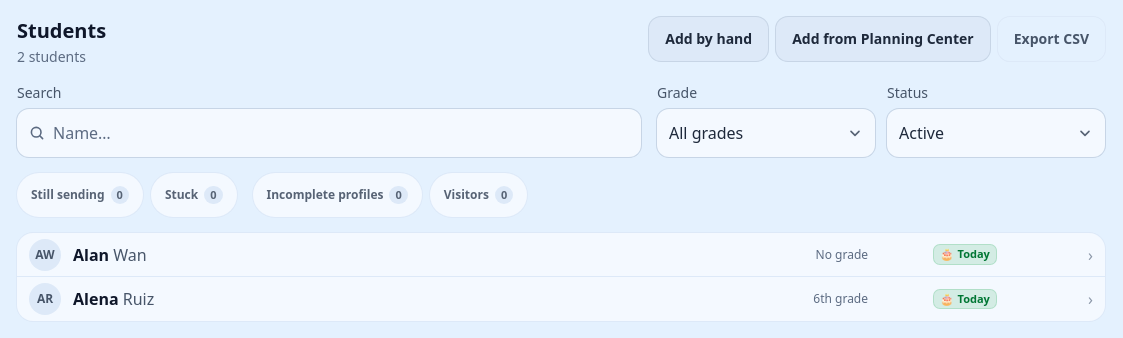
Test case: StudentsPage grade › hands back exactly the students nobody holds a grade for
Select "No grade" in the dropdown named "All grades" at (766, 133), box top-left (657, 109), bottom-right (875, 157)
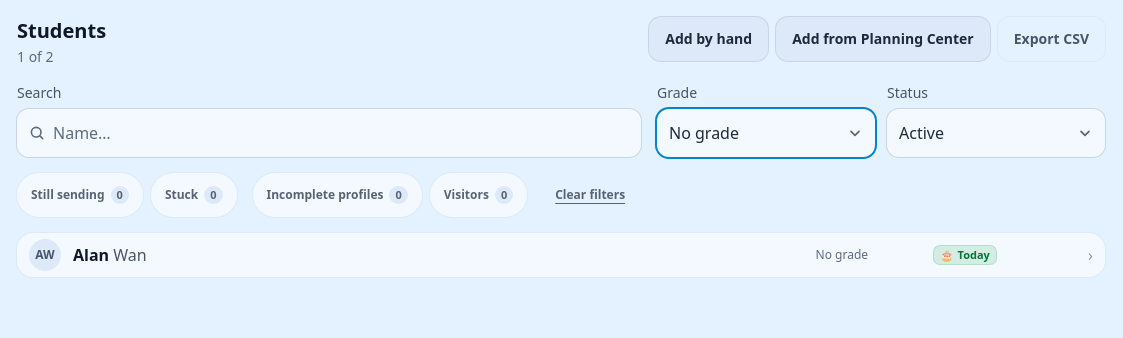
Check: the link named "Alan Wan" is shown, box top-left (17, 233), bottom-right (1105, 277)
Check: the text "Alena" is gone
